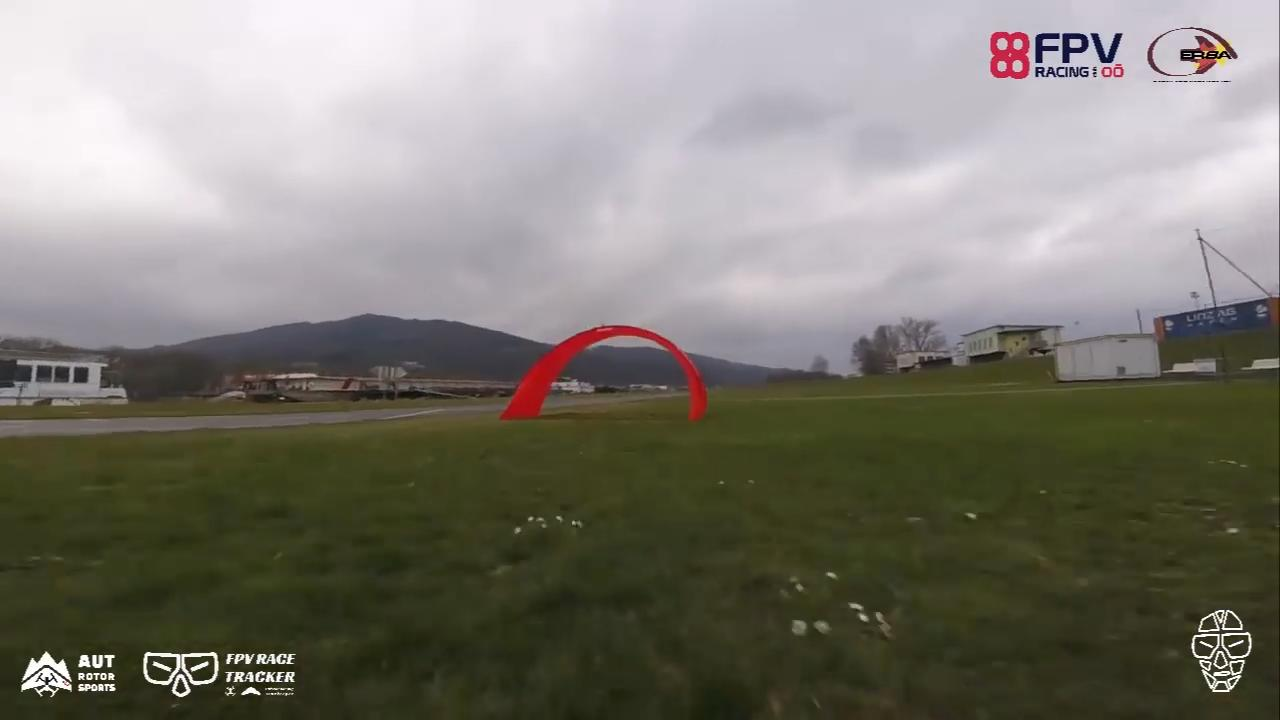gate: (499, 323, 705, 423)
